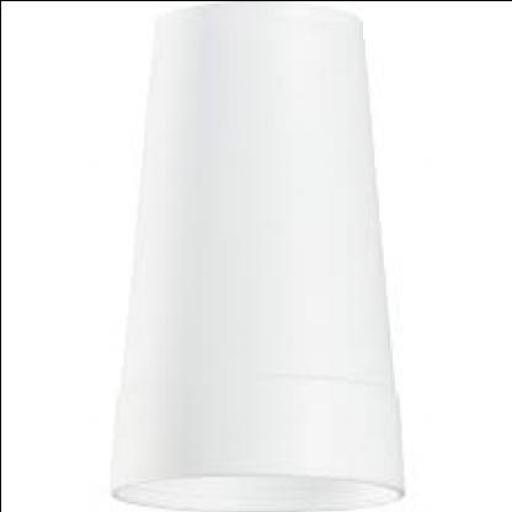paper: (106, 20, 402, 510)
